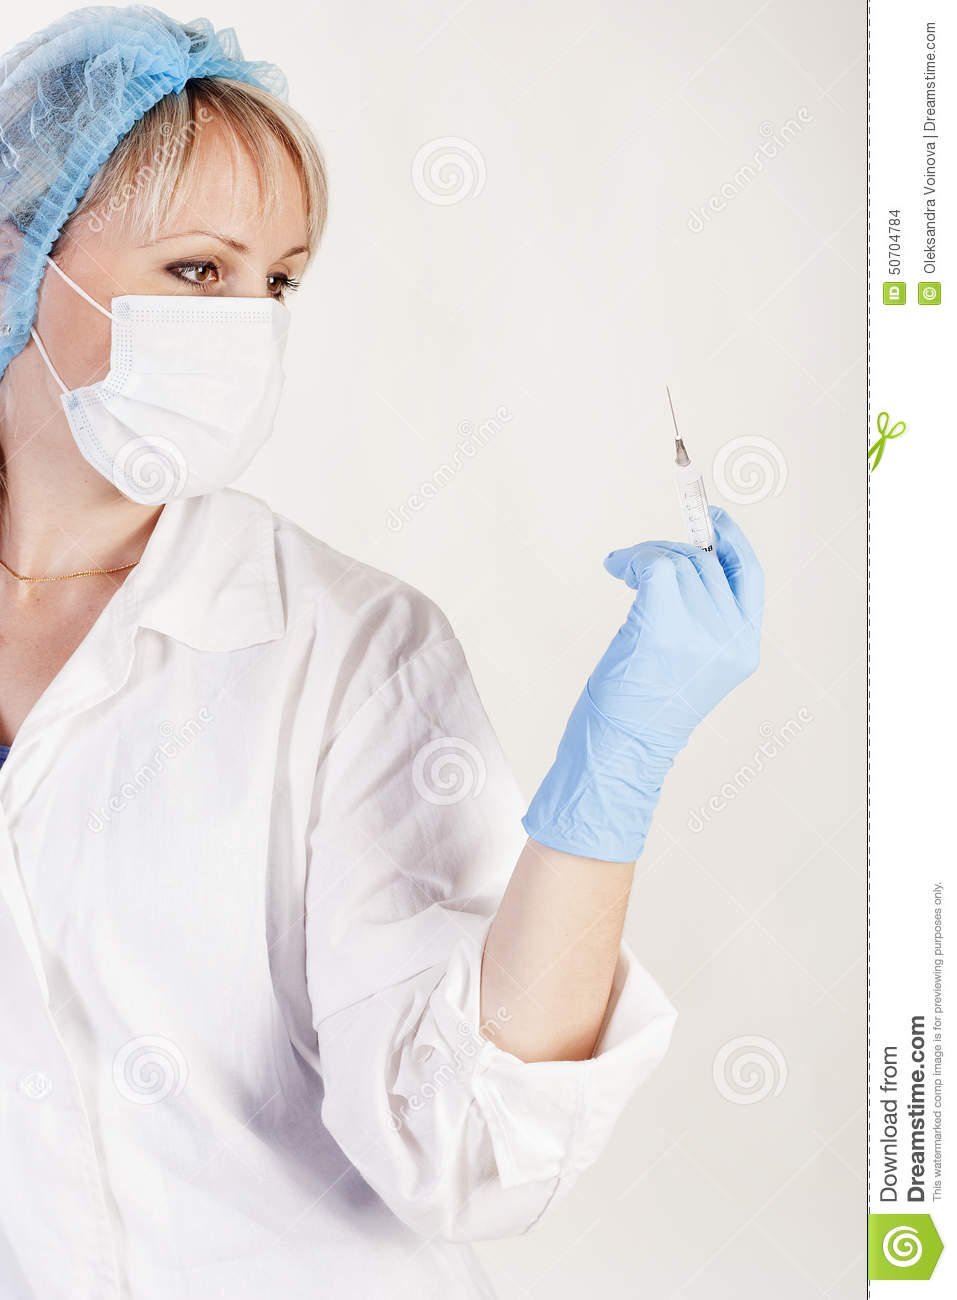mask: (70, 293, 324, 527)
